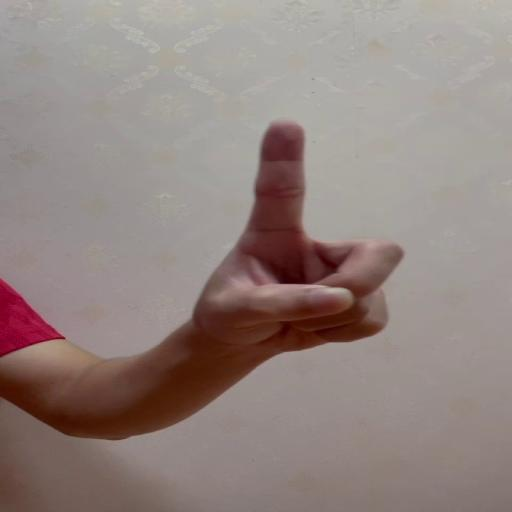point: (229, 115, 410, 352)
